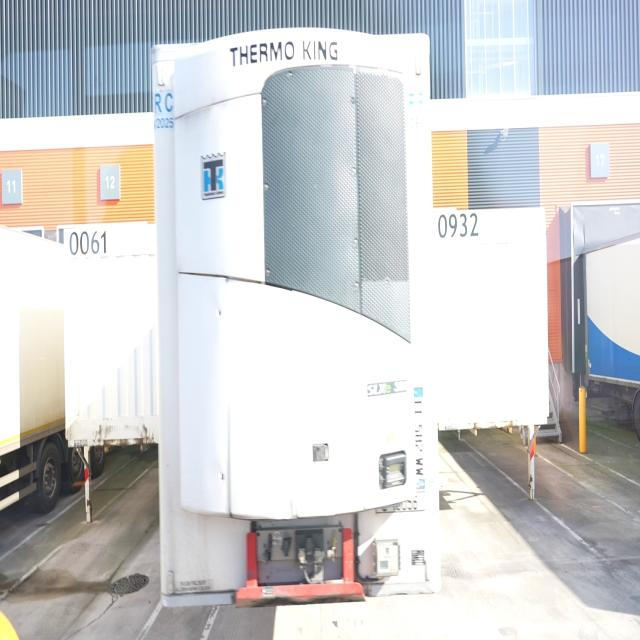Code: (433, 207, 482, 244), (67, 224, 110, 260)
